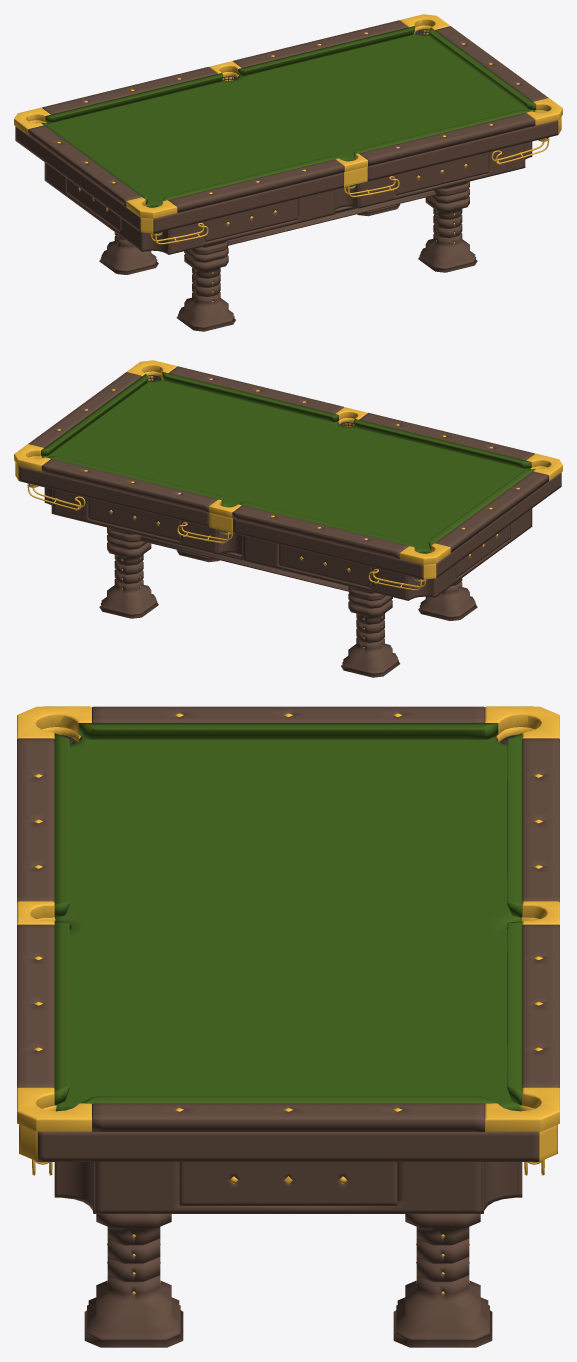
Rendered from BilliardTable.glb.
3 views of the same model, one above another, from view 1: azimuth 30°, elevation 25°; view 2: azimuth 150°, elevation 25°; view 3: azimuth 270°, elevation 25° (orthographic). The views are drawn at different scales.
Visible parts, largest first — view 1: Billiard Table_Fabric, Billiard Table_Wood, Billiard Table_Legs, Billiard Table_Walls, Billiard Table_Pocket Gold; view 2: Billiard Table_Fabric, Billiard Table_Wood, Billiard Table_Legs, Billiard Table_Walls, Billiard Table_Pocket Gold; view 3: Billiard Table_Fabric, Billiard Table_Wood, Billiard Table_Walls, Billiard Table_Legs, Billiard Table_Pocket Gold.
Part boxes in pixels (bbox=[...]): Billiard Table_Fabric: bbox=[46, 33, 534, 207]; Billiard Table_Wood: bbox=[15, 20, 558, 254]; Billiard Table_Legs: bbox=[99, 181, 477, 331]; Billiard Table_Walls: bbox=[41, 26, 535, 205]; Billiard Table_Pocket Gold: bbox=[14, 14, 562, 244]; Billiard Table_Fabric: bbox=[42, 379, 530, 553]; Billiard Table_Wood: bbox=[18, 366, 561, 600]; Billiard Table_Legs: bbox=[99, 527, 477, 677]; Billiard Table_Walls: bbox=[41, 372, 535, 551]; Billiard Table_Pocket Gold: bbox=[14, 360, 562, 590]; Billiard Table_Fabric: bbox=[55, 736, 521, 1111]; Billiard Table_Wood: bbox=[17, 706, 559, 1213]; Billiard Table_Walls: bbox=[54, 723, 522, 1105]; Billiard Table_Legs: bbox=[84, 1214, 492, 1347]; Billiard Table_Pocket Gold: bbox=[17, 706, 559, 1175].
Size of the model in its own units: 2.43 by 0.8165 by 1.35.
